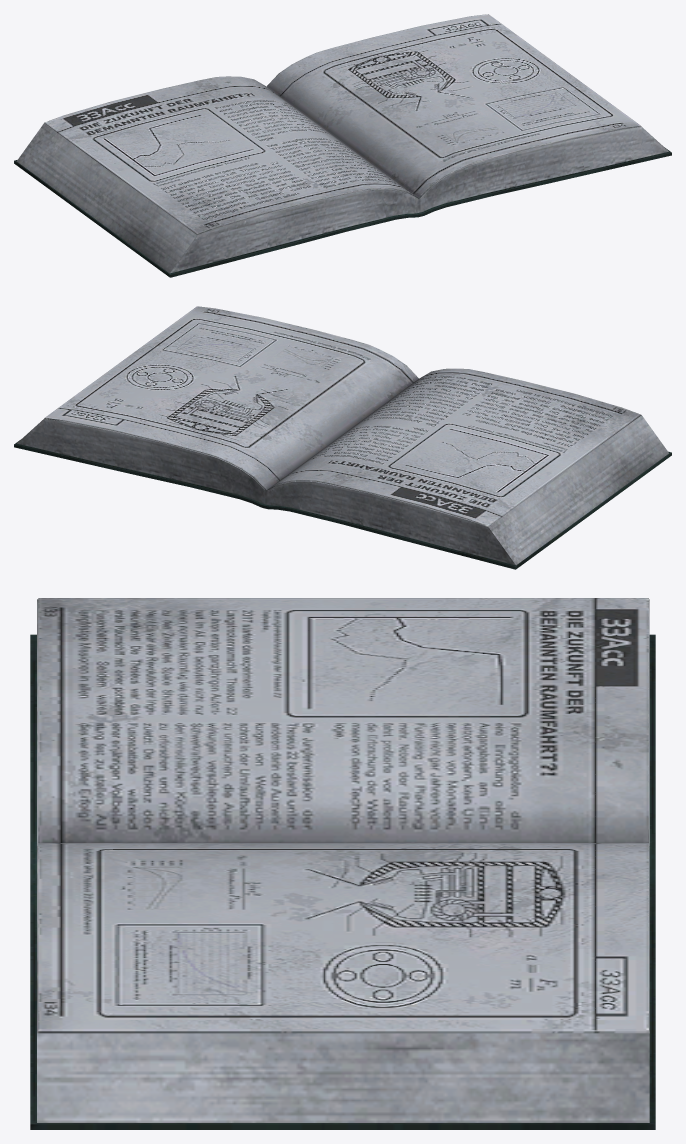
File: book_readable_open01.dae
3 renders of one model, top to bottom at view 1: azimuth 30°, elevation 25°; view 2: azimuth 150°, elevation 25°; view 3: azimuth 270°, elevation 25°, orthographic. The views are drawn at different scales.
Parts seen in each view (by area): view 1: book_readable_open01_LP; view 2: book_readable_open01_LP; view 3: book_readable_open01_LP.
Part boxes in pixels (box(x1,y1,x2,y2)): book_readable_open01_LP: box(14, 14, 671, 277); book_readable_open01_LP: box(14, 306, 671, 569); book_readable_open01_LP: box(30, 598, 655, 1129).
Size of the model in its own units: 0.5575 by 0.0427 by 0.3007.
